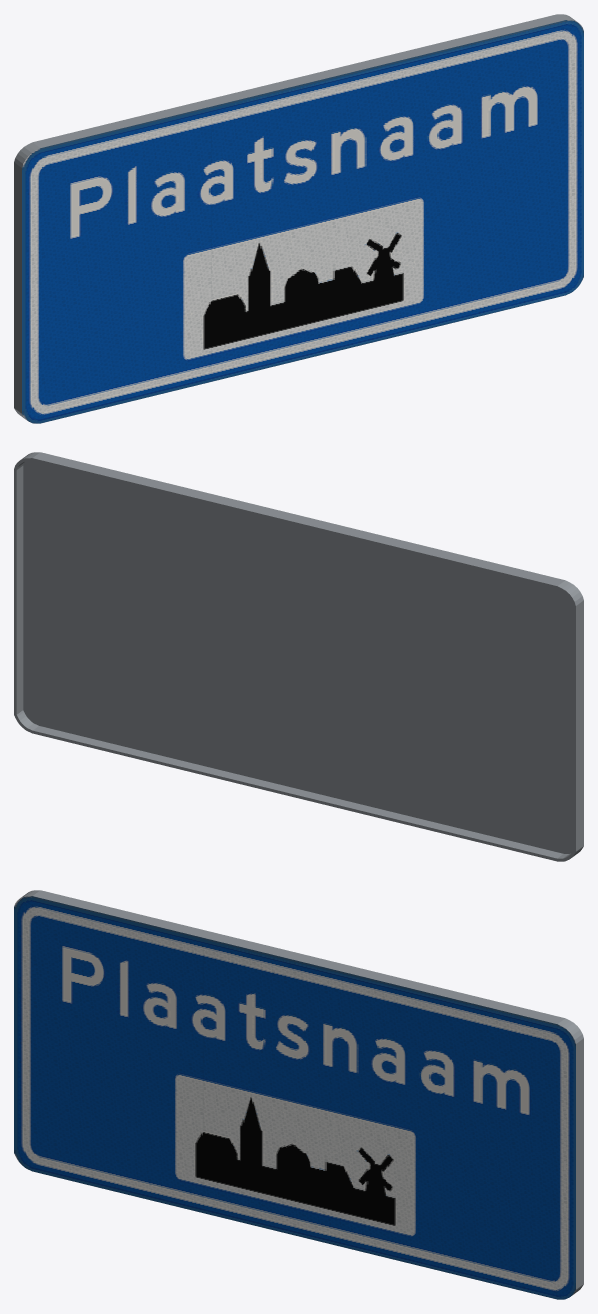
3 views of the same model, one above another, from view 1: azimuth 30°, elevation 25°; view 2: azimuth 150°, elevation 25°; view 3: azimuth 330°, elevation 25° (orthographic).
Visible parts, largest first — view 1: cat_5a85187f21892f03; view 2: cat_5a85187f21892f03; view 3: cat_5a85187f21892f03.
Part boxes in pixels (bbox=[...]): cat_5a85187f21892f03: bbox=[14, 14, 583, 423]; cat_5a85187f21892f03: bbox=[14, 452, 583, 861]; cat_5a85187f21892f03: bbox=[14, 890, 583, 1299].
Bounding box in the file's own units: 0.6 × 0.015 × 0.281.
Materials: 2 (1 with a texture image).
